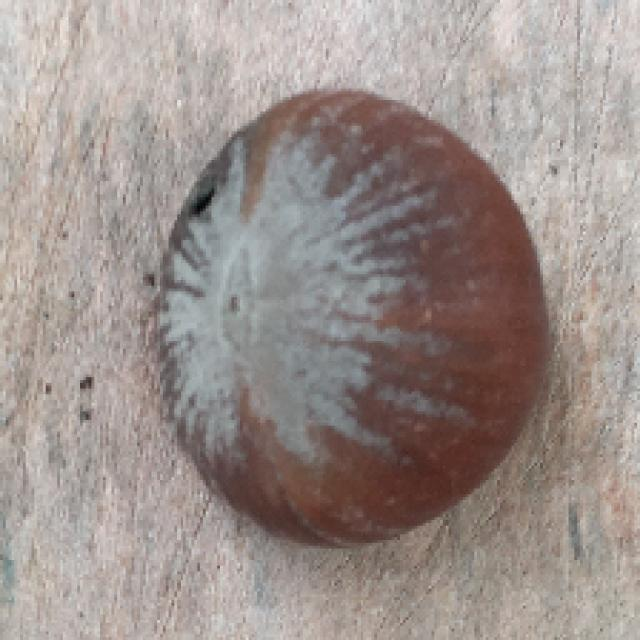DamagedHazelnut: (151, 86, 548, 556)
